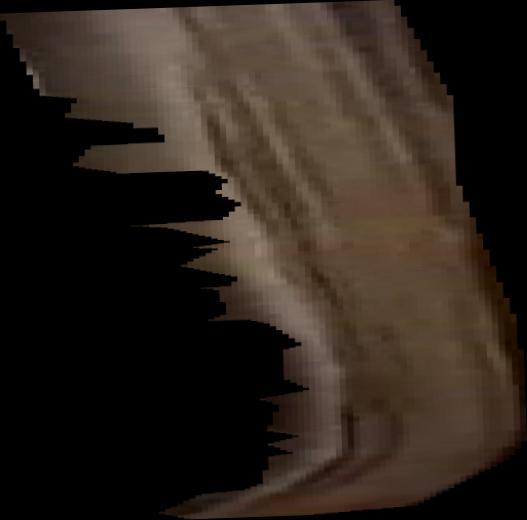backward: (1, 1, 527, 520)
